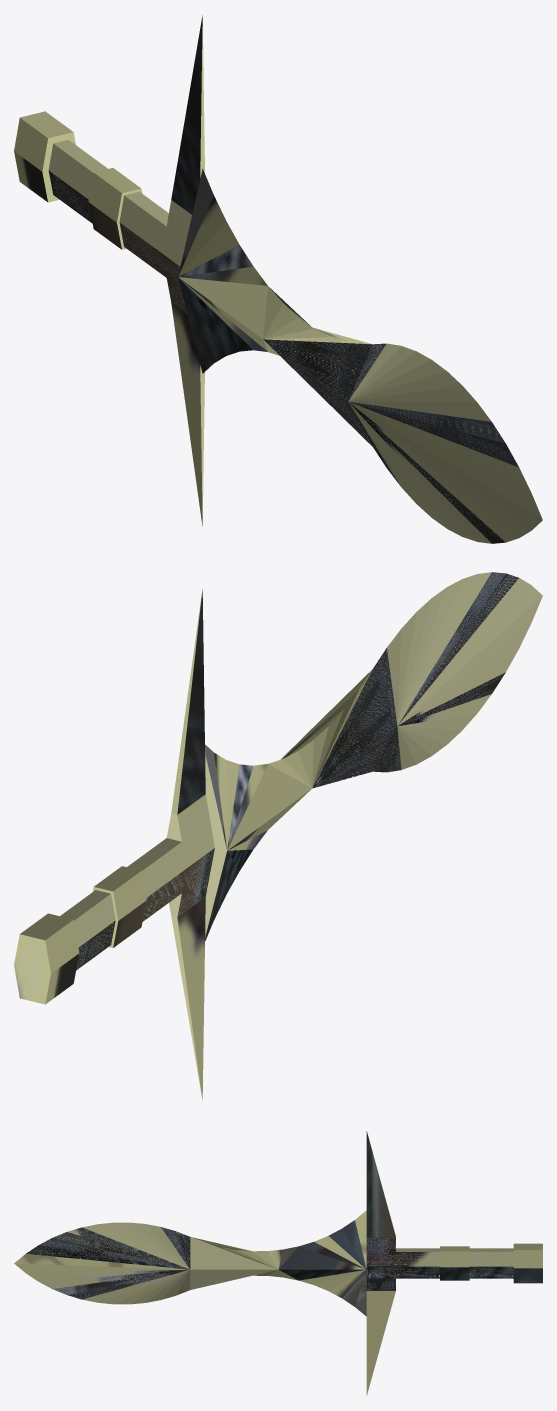
Rendered from model_scale.obj.
3 renders of one model, top to bottom at view 1: azimuth 30°, elevation 25°; view 2: azimuth 150°, elevation 25°; view 3: azimuth 270°, elevation 25°, orthographic. The views are drawn at different scales.
Parts seen in each view (by area): view 1: mesh1_mesh1-geometry; view 2: mesh1_mesh1-geometry; view 3: mesh1_mesh1-geometry.
Boxes of the visible parts, x1,y1,x2,y2 form: mesh1_mesh1-geometry: (14, 15, 542, 543); mesh1_mesh1-geometry: (14, 572, 542, 1100); mesh1_mesh1-geometry: (14, 1131, 542, 1395).
Bounding box in the file's own units: 0.0112 × 0.1124 × 0.2023.
